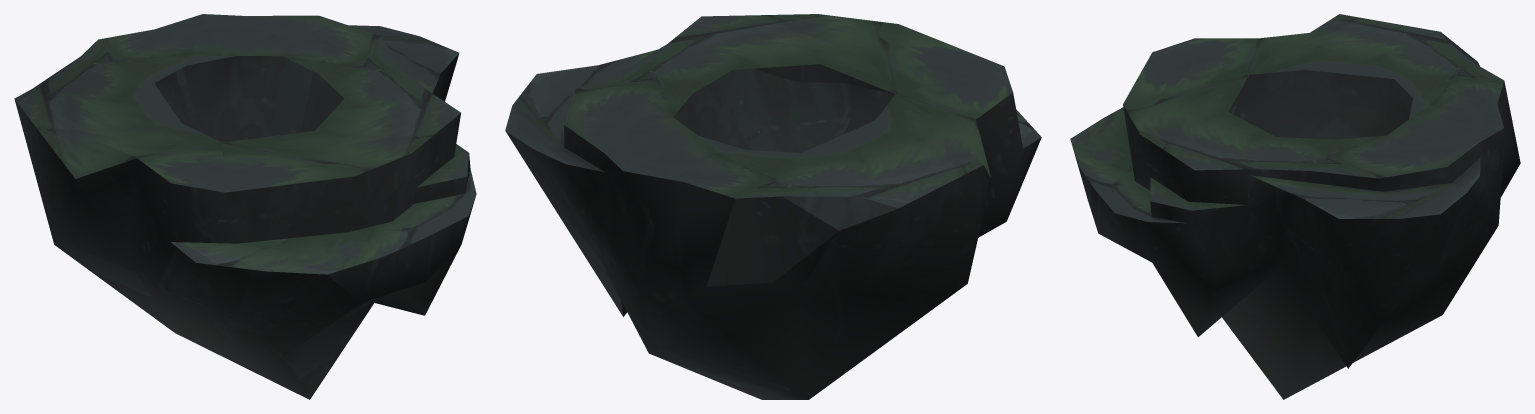
File: zhucheng_stone_01.FBX
3 renders of one model, left to right at view 1: azimuth 30°, elevation 25°; view 2: azimuth 150°, elevation 25°; view 3: azimuth 270°, elevation 25°, orthographic. The views are drawn at different scales.
Parts seen in each view (by area): view 1: zhucheng_stone_01; view 2: zhucheng_stone_01; view 3: zhucheng_stone_01.
Part boxes in pixels (x1=…): zhucheng_stone_01: x1=14, y1=14, x2=476, y2=399; zhucheng_stone_01: x1=505, y1=14, x2=1041, y2=399; zhucheng_stone_01: x1=1070, y1=14, x2=1520, y2=399.
Bounding box in the file's own units: 6953 × 4766 × 6988.
